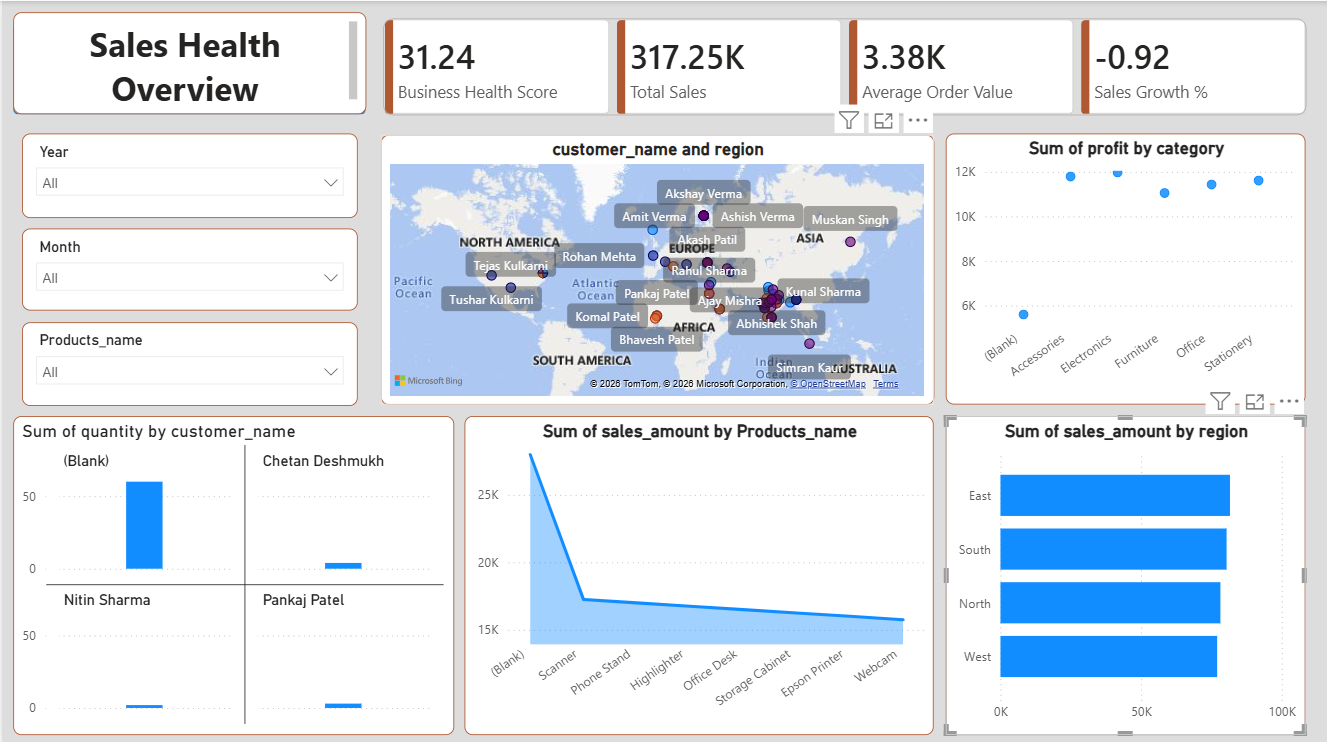

The page's visual inventory and layout, read from the dashboard file:
{"tool":"powerbi","page":{"name":"Sales Health Page","canvas":[1280,720],"ordinal":0},"visuals":[{"type":"cardVisual","fields":{"Data":["sales.Business Health Score","sales.Total Sales","sales.Average Order Value","sales.Sales Growth %"]},"box":[351.3,0,929,127.6],"z":0},{"type":"shape","box":[11,20.6,340.3,89.2],"z":1000},{"type":"textbox","box":[11.1,11.1,340.9,98.4],"z":2000},{"type":"lineChart","fields":{"Category":["sales.sales_date.Variation.Date Hierarchy.Year","sales.sales_date.Variation.Date Hierarchy.Quarter","sales.sales_date.Variation.Date Hierarchy.Month","sales.sales_date.Variation.Date Hierarchy.Day"],"Y":["Sum(sales.sales_amount)"]},"box":[11.1,127.5,425.4,261.9],"z":4000},{"type":"map","fields":{"Series":["sales.region"],"Size":["Sum(sales.sales_amount)"]},"box":[446.2,127.5,452.5,261.2],"z":5000},{"type":"columnChart","fields":{"Y":["Sum(sales.quantity)"]},"box":[11.1,400.4,425.4,307.6],"z":6000},{"type":"scatterChart","fields":{"X":["Sum(sales.sales_amount)"],"Y":["Sum(sales.profit)"]},"box":[910.3,127.5,356.1,261.9],"z":7000},{"type":"areaChart","fields":{"Category":["sales.sales_date.Variation.Date Hierarchy.Year","sales.sales_date.Variation.Date Hierarchy.Quarter","sales.sales_date.Variation.Date Hierarchy.Month","sales.sales_date.Variation.Date Hierarchy.Day"],"Y":["Sum(sales.sales_amount)"]},"box":[446.2,400.4,453.1,307.6],"z":8000},{"type":"clusteredBarChart","fields":{"Category":["sales.region"],"Y":["Sum(sales.sales_amount)"]},"box":[910.3,400.4,356.1,307.6],"z":9000}]}

Visuals, with their boxes in screenshot pixels (x1, y1, x2, y2), scaled from the page's 1280x720 canvas onto the 1327x742 screenshot:
cardVisual - sales.Business Health Score x sales.Total Sales: (364, 0, 1326, 131)
shape: (11, 21, 364, 113)
textbox: (12, 11, 365, 113)
lineChart - sales.sales_date.Variation.Date Hierarchy.Year x sales.sales_date.Variation.Date Hierarchy.Quarter: (12, 131, 453, 401)
map - sales.region x Sum(sales.sales_amount): (463, 131, 932, 401)
columnChart - Sum(sales.quantity): (12, 413, 453, 730)
scatterChart - Sum(sales.sales_amount) x Sum(sales.profit): (944, 131, 1313, 401)
areaChart - sales.sales_date.Variation.Date Hierarchy.Year x sales.sales_date.Variation.Date Hierarchy.Quarter: (463, 413, 932, 730)
clusteredBarChart - sales.region x Sum(sales.sales_amount): (944, 413, 1313, 730)
